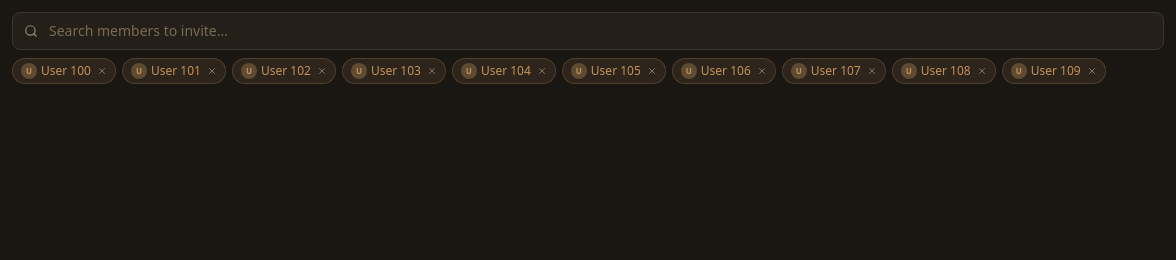
it: when cap reached, add buttons are disabled and cap hint shown
Type "al" into the field labelled "Search members to invite…" at (588, 31), box [12,12,1164,50]
Wait 260 ms
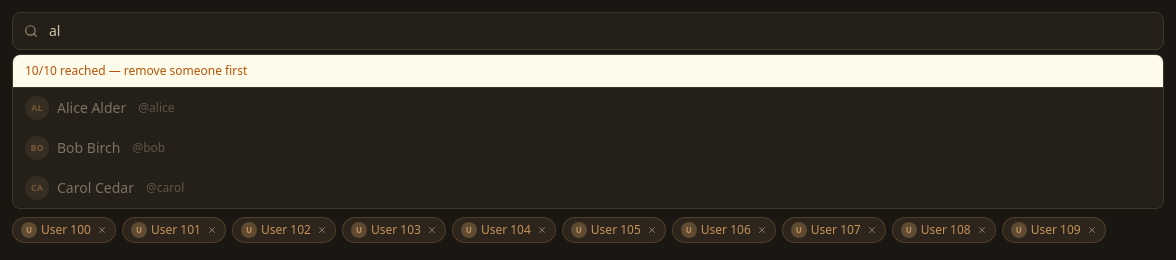
Now the list is shown, box [12,54,1164,209]
Now the list item "10/10 reached — remove someone first" is shown, box [13,55,1163,88]
Now the button "AL Alice Alder @alice" is disabled, box [13,88,1163,128]
